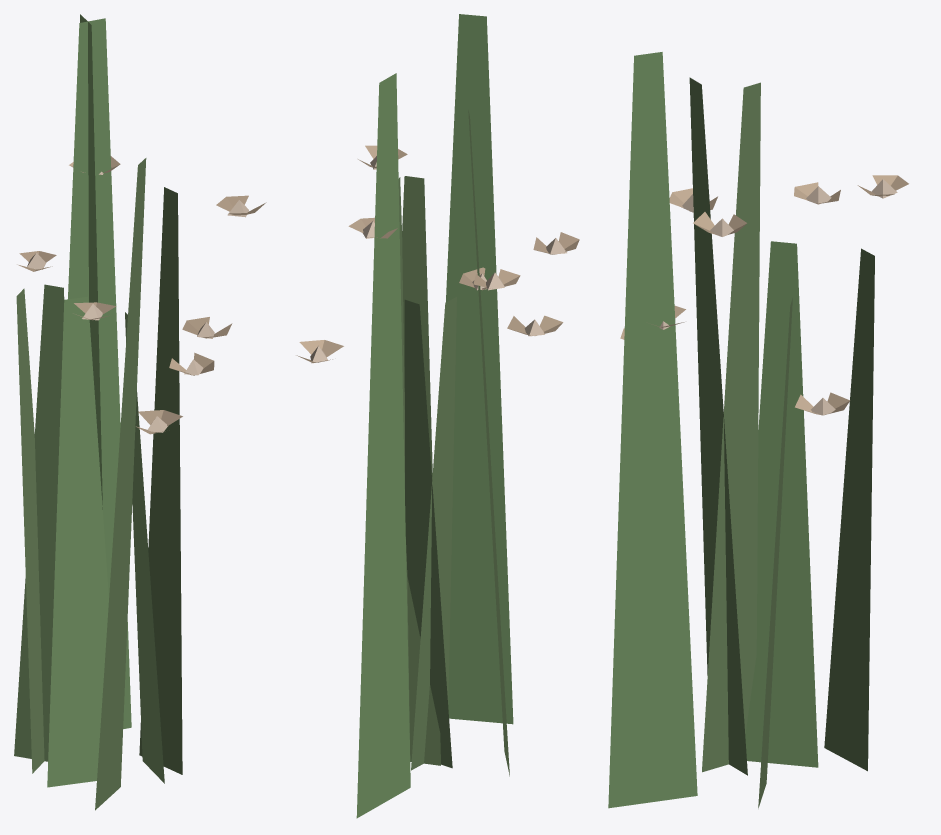
The model's file is shui.pucao@flowering__summer.glb.
3 views of the same model, side by side, from view 1: azimuth 30°, elevation 25°; view 2: azimuth 150°, elevation 25°; view 3: azimuth 270°, elevation 25° (orthographic). The views are drawn at different scales.
Visible parts, largest first — view 1: shui.pucao@flowering__summer; view 2: shui.pucao@flowering__summer; view 3: shui.pucao@flowering__summer.
Boxes of the visible parts, bbox=[...] form: shui.pucao@flowering__summer: bbox=[14, 14, 266, 810]; shui.pucao@flowering__summer: bbox=[296, 14, 579, 818]; shui.pucao@flowering__summer: bbox=[608, 52, 908, 808].
Size of the model in its own units: 0.6695 by 2.11 by 0.7877.
